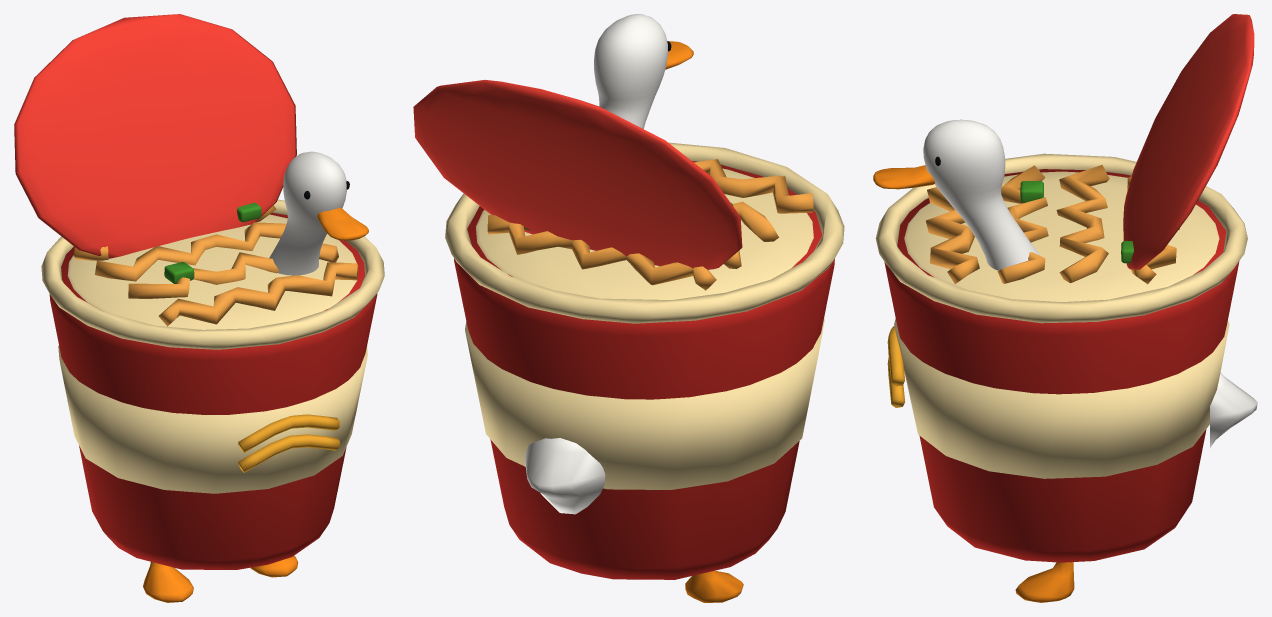
Rendered from duck-noodles.glb.
3 renders of one model, left to right at view 1: azimuth 30°, elevation 25°; view 2: azimuth 150°, elevation 25°; view 3: azimuth 270°, elevation 25°, orthographic. The views are drawn at different scales.
Visible parts, largest first — view 1: duck-noodles; view 2: duck-noodles; view 3: duck-noodles.
Boxes of the visible parts, x1=… form: duck-noodles: x1=14, y1=14, x2=384, y2=602; duck-noodles: x1=413, y1=14, x2=844, y2=602; duck-noodles: x1=873, y1=14, x2=1257, y2=602.
Bounding box in the file's own units: 0.6326 × 1 × 0.6536.
Materials: 1 (1 with a texture image).
